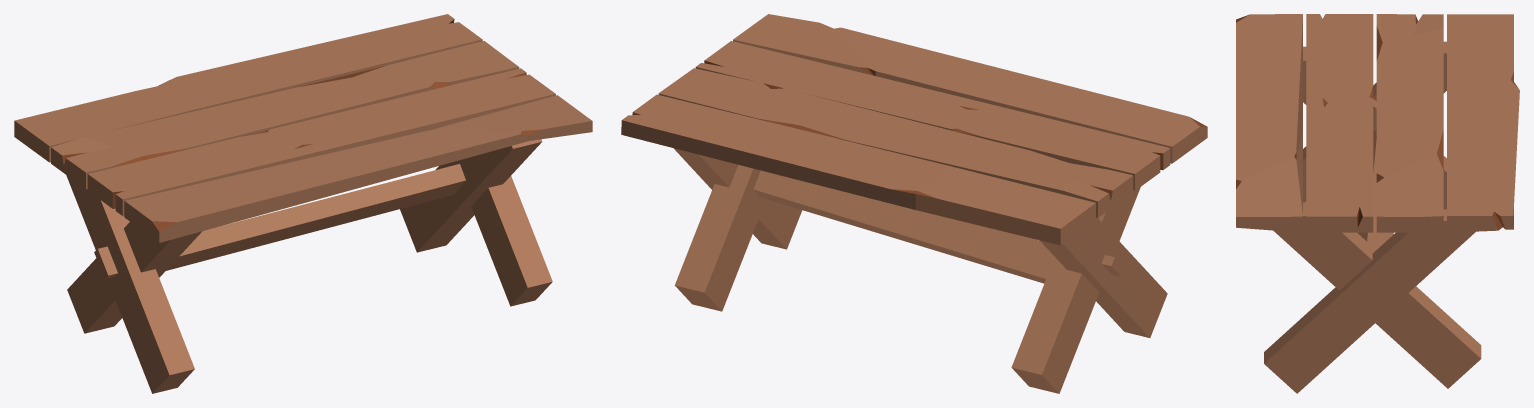
File: Table_only.fbx
3 views of the same model, side by side, from view 1: azimuth 30°, elevation 25°; view 2: azimuth 150°, elevation 25°; view 3: azimuth 270°, elevation 25° (orthographic). The views are drawn at different scales.
Parts seen in each view (by area): view 1: Table_only; view 2: Table_only; view 3: Table_only.
Boxes of the visible parts, x1=… form: Table_only: x1=14, y1=14, x2=592, y2=393; Table_only: x1=621, y1=14, x2=1207, y2=393; Table_only: x1=1236, y1=14, x2=1519, y2=393.
Bounding box in the file's own units: 78.16 × 34.66 × 46.26.
